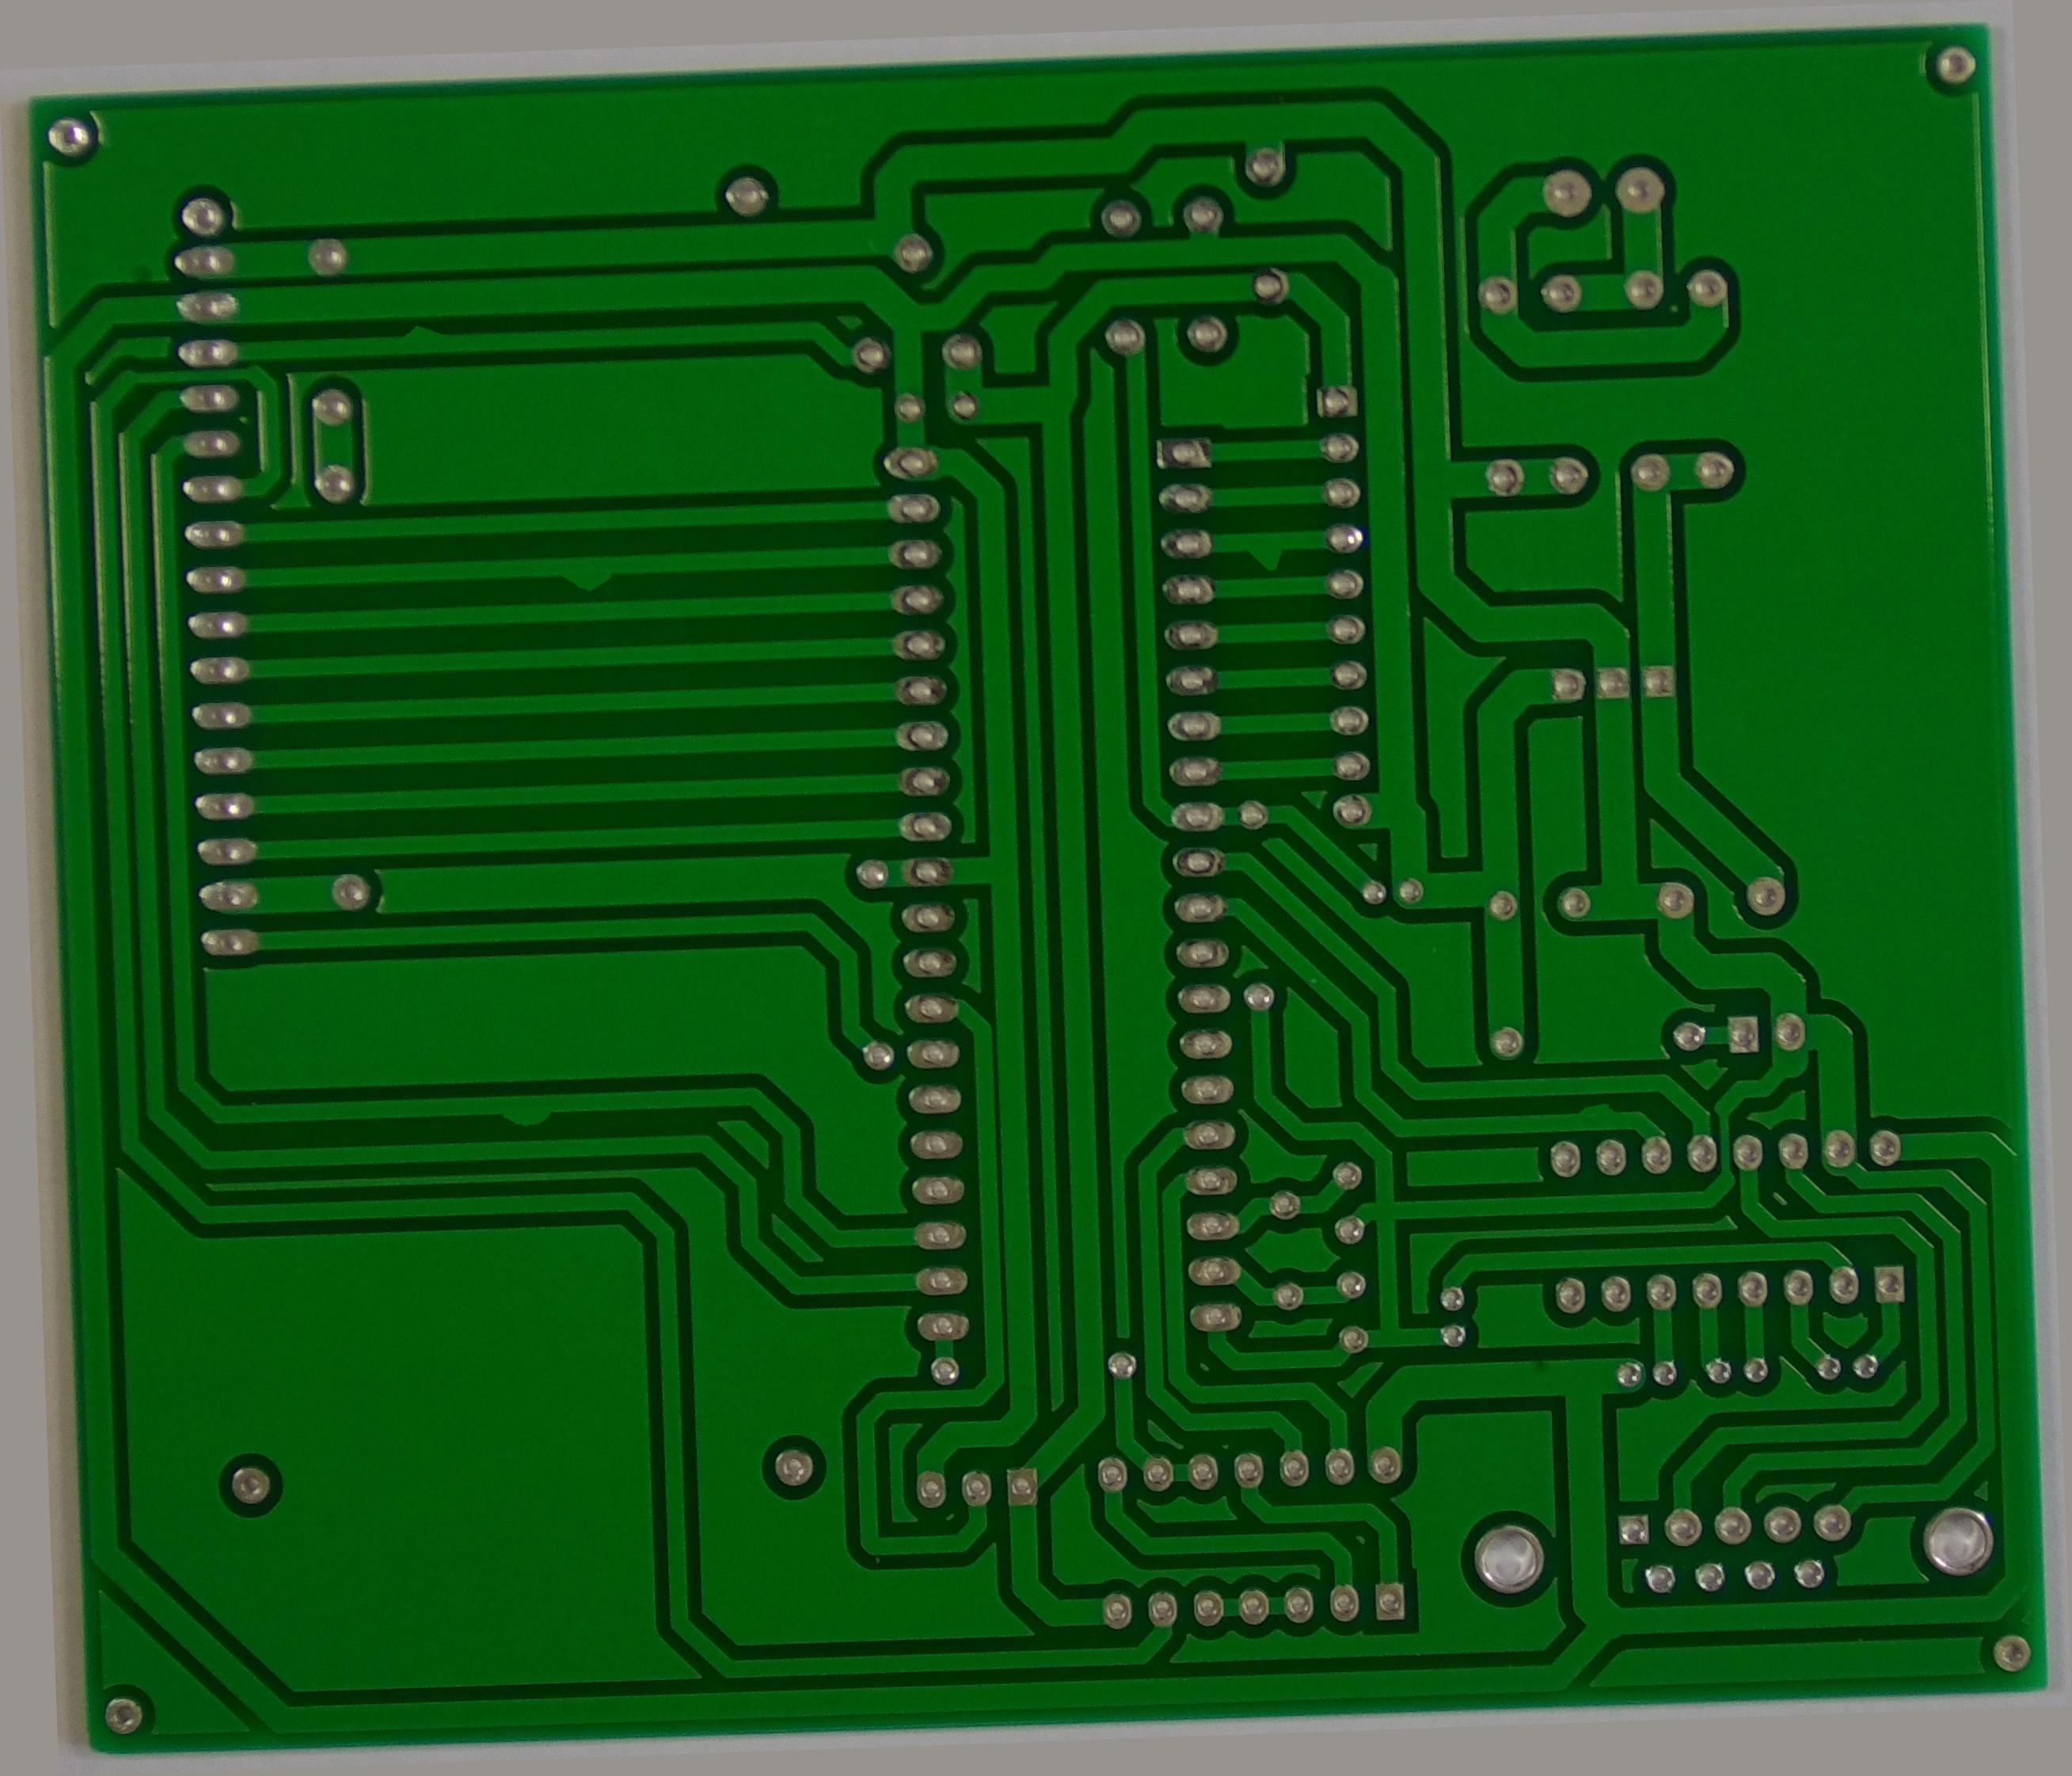spur: (537, 522, 624, 574), (463, 1073, 537, 1126), (1566, 1121, 1642, 1166), (1254, 525, 1323, 573), (388, 271, 455, 312)
